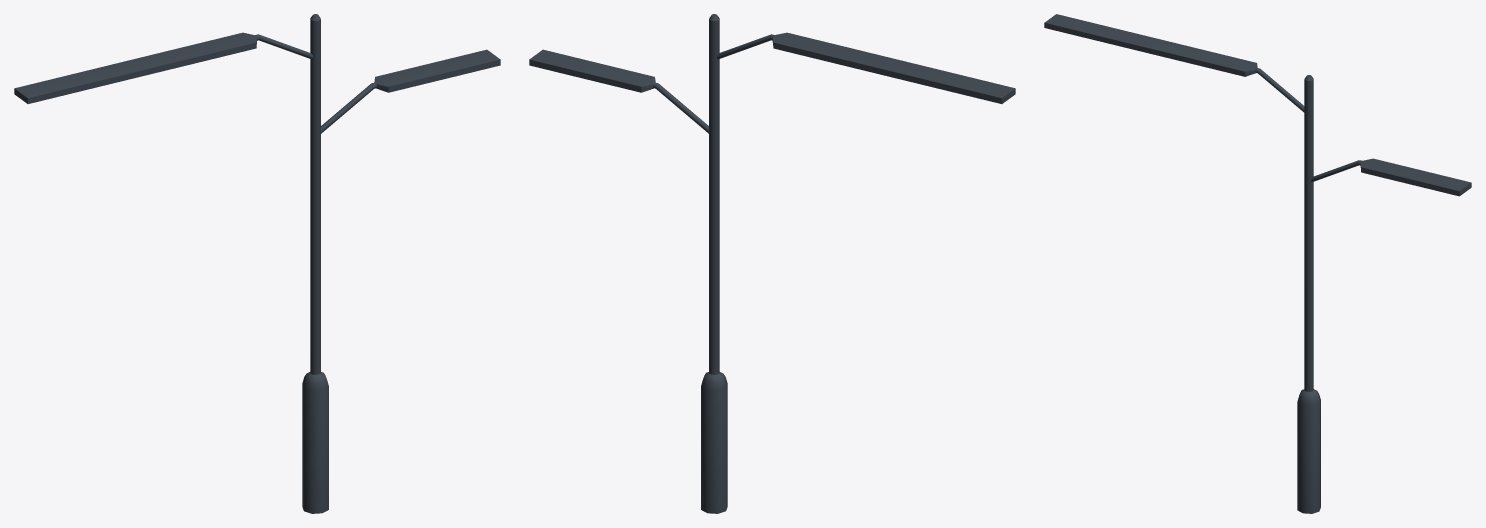
The model's file is Street light.fbx.
The picture shows the model from 3 angles, left to right: view 1: azimuth 30°, elevation 25°; view 2: azimuth 150°, elevation 25°; view 3: azimuth 330°, elevation 25°; orthographic projection. The views are drawn at different scales.
Visible parts, largest first — view 1: Street light; view 2: Street light; view 3: Street light.
Part boxes in pixels (bbox=[...]): Street light: bbox=[14, 14, 500, 513]; Street light: bbox=[529, 14, 1015, 513]; Street light: bbox=[1044, 14, 1471, 513].
Bounding box in the file's own units: 4.01 × 0.2 × 4.
